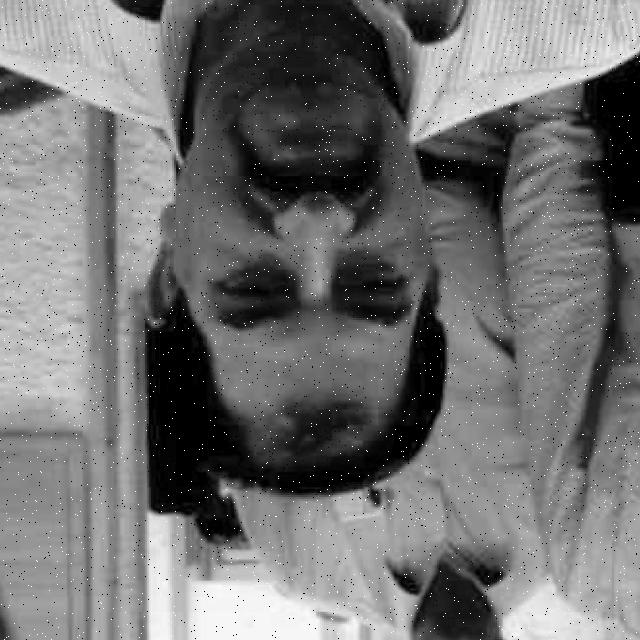puffy_eyes: (336, 259, 403, 283), (219, 269, 289, 286)
